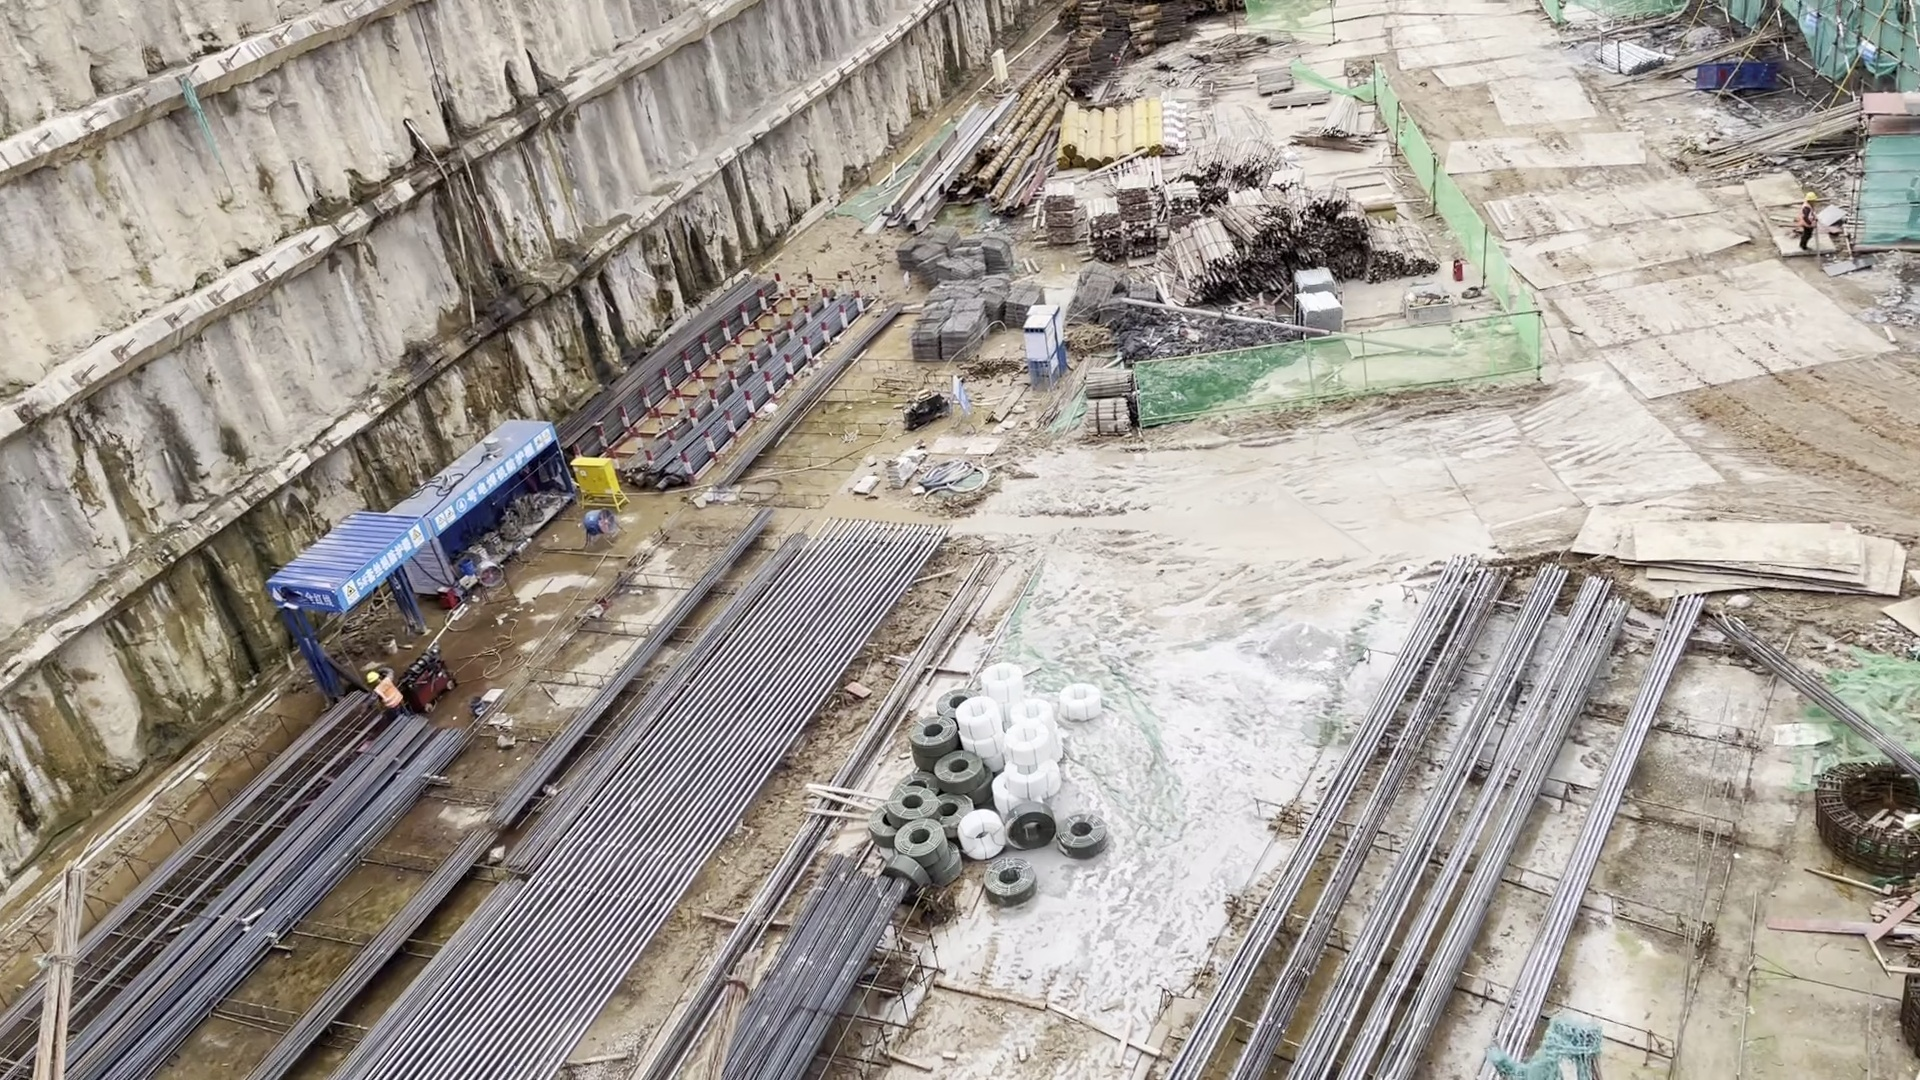ebox: (568, 455, 632, 512)
helmet: (366, 672, 377, 682)
hopper: (1699, 55, 1778, 98), (1402, 295, 1452, 325)
person: (364, 667, 408, 725), (1803, 193, 1818, 252)
rebar: (1128, 553, 1705, 1080), (3, 685, 467, 1080), (552, 274, 901, 488), (678, 855, 909, 1078)
scaffold: (1294, 268, 1350, 333), (1594, 35, 1674, 74)
slogan: (438, 424, 555, 536), (345, 521, 430, 612)
vest: (374, 679, 404, 709)
wood: (1044, 142, 1440, 298)
